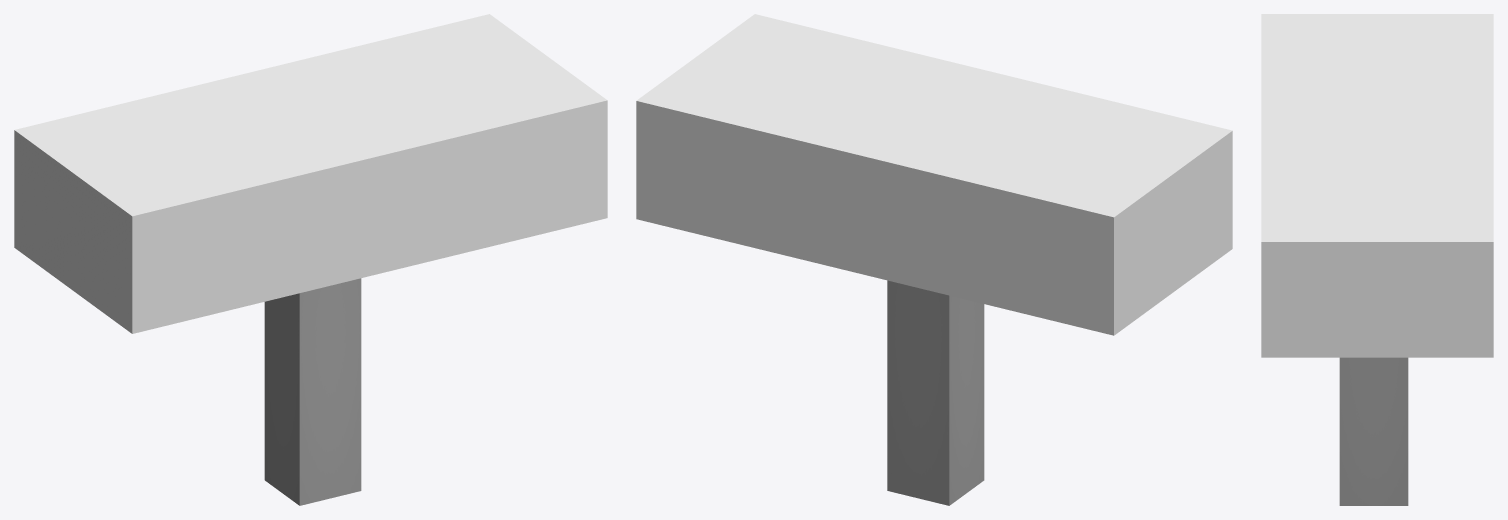
The model's file is testModel2.fbx.
3 views of the same model, side by side, from view 1: azimuth 30°, elevation 25°; view 2: azimuth 150°, elevation 25°; view 3: azimuth 270°, elevation 25° (orthographic). The views are drawn at different scales.
Visible parts, largest first — view 1: Box002, Box001; view 2: Box002, Box001; view 3: Box002, Box001.
Part boxes in pixels (bbox=[...]): Box002: bbox=[14, 14, 607, 333]; Box001: bbox=[264, 278, 361, 505]; Box002: bbox=[636, 14, 1232, 335]; Box001: bbox=[887, 280, 984, 505]; Box002: bbox=[1261, 14, 1493, 357]; Box001: bbox=[1339, 357, 1408, 505].
Size of the model in its own units: 235 by 174 by 101.
